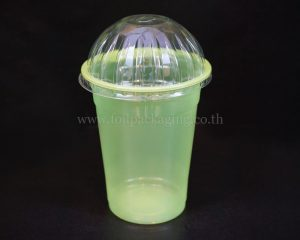plastic_glass: (78, 10, 228, 229)
